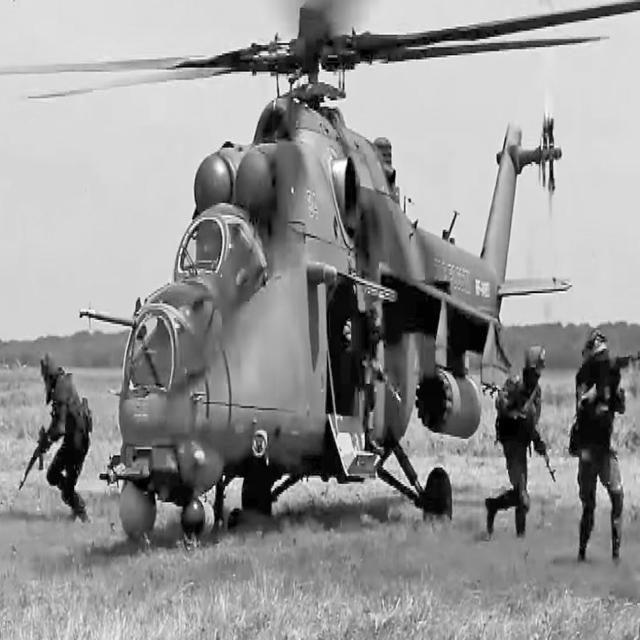helicopter: (50, 1, 635, 566)
